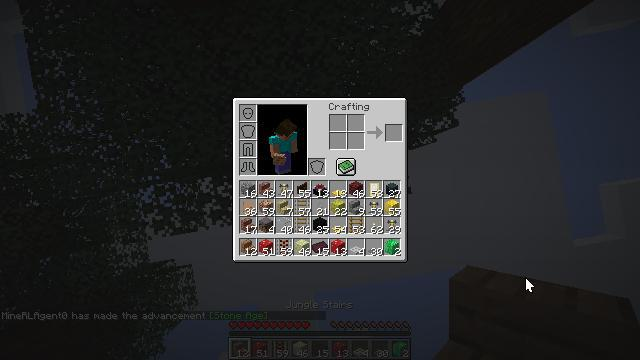cursor: (525, 277, 535, 293)
